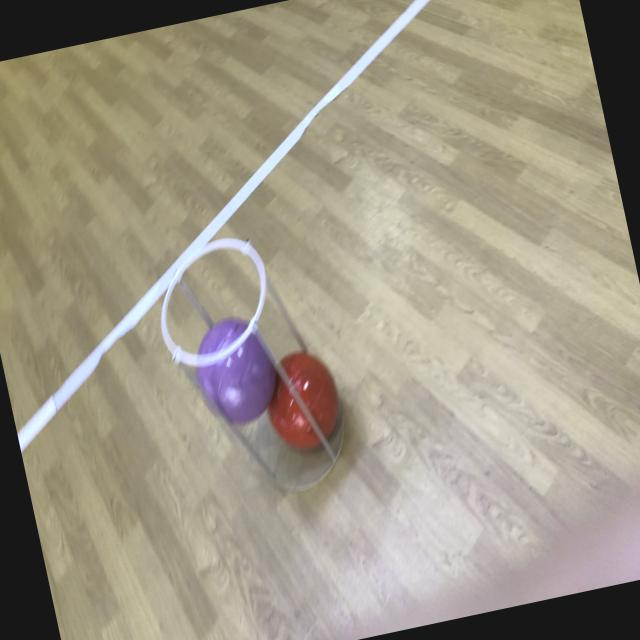purple_ball: (186, 311, 283, 428)
red_ball: (256, 344, 346, 452)
